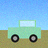vehicle: (8, 20, 41, 42)
